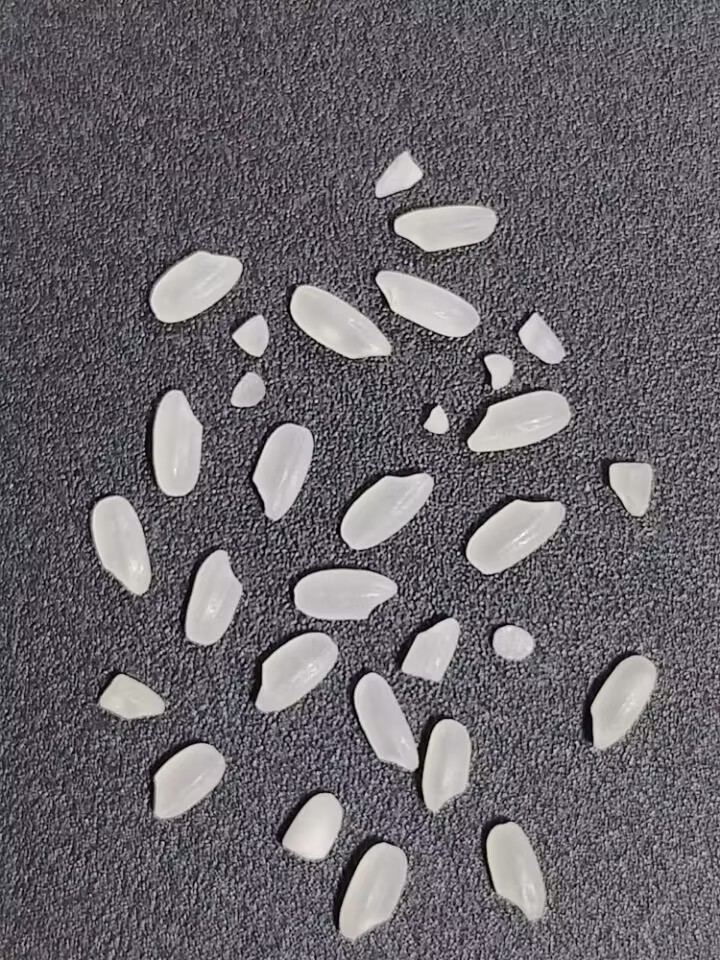broken: (279, 790, 346, 864), (395, 612, 462, 685), (96, 668, 169, 723), (367, 145, 429, 202), (604, 460, 658, 519), (514, 307, 568, 365), (221, 366, 269, 416), (489, 620, 541, 666), (229, 312, 273, 362), (480, 351, 517, 394), (417, 400, 453, 440)
rice: (285, 280, 393, 365), (332, 469, 437, 553), (369, 265, 483, 339), (464, 496, 568, 577), (246, 416, 317, 524), (250, 629, 339, 714), (336, 839, 409, 942), (149, 248, 246, 325), (350, 669, 422, 770), (588, 653, 659, 754), (464, 390, 572, 455), (90, 493, 155, 599), (486, 820, 549, 925), (180, 548, 246, 648), (151, 386, 203, 500), (290, 568, 399, 621), (389, 203, 504, 253), (151, 743, 226, 818), (421, 715, 471, 814)
